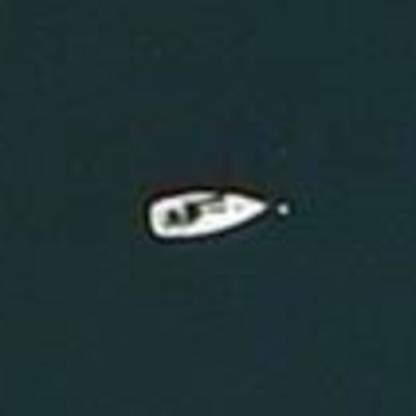ship: (136, 180, 300, 246)
